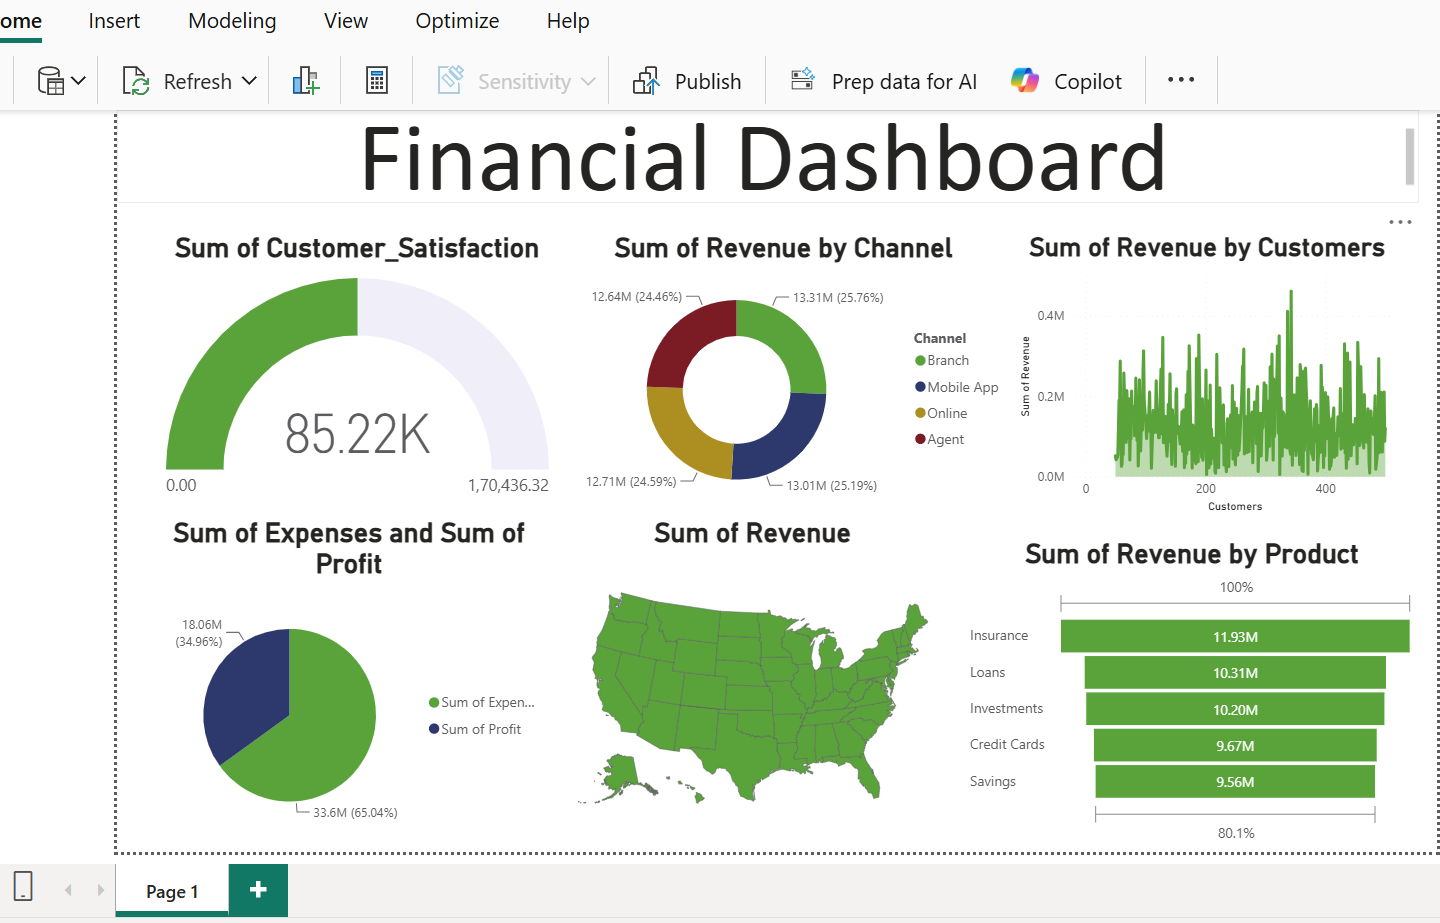

This screenshot's page, from the dashboard's own definition file:
{"tool":"powerbi","page":{"name":"Page 1","canvas":[1280,720],"ordinal":0},"visuals":[{"type":"gauge","fields":{"Y":["Sum(0_financial_dashboard_dataset.Customer_Satisfaction)"]},"box":[41.7,118.3,381.7,276.7],"z":0},{"type":"pieChart","fields":{"Y":["Sum(0_financial_dashboard_dataset.Expenses)","Sum(0_financial_dashboard_dataset.Profit)"]},"box":[28.3,395,395,325],"z":1000},{"type":"donutChart","fields":{"Category":["0_financial_dashboard_dataset.Channel"],"Y":["Sum(0_financial_dashboard_dataset.Revenue)"]},"box":[423.3,118.3,446.7,276.7],"z":2000},{"type":"shapeMap","fields":{"Value":["Sum(0_financial_dashboard_dataset.Revenue)"]},"box":[423.3,395,386.7,321.7],"z":3000},{"type":"stackedAreaChart","fields":{"Category":["0_financial_dashboard_dataset.Customers"],"Y":["Sum(0_financial_dashboard_dataset.Revenue)"]},"box":[870,118.3,375,276.7],"z":3001},{"type":"funnel","fields":{"Category":["0_financial_dashboard_dataset.Product"],"Y":["Sum(0_financial_dashboard_dataset.Revenue)"]},"box":[821.7,415,441.7,301.7],"z":3002},{"type":"textbox","box":[0,0,1263.3,90],"z":3003}]}

Visuals, with their boxes on the page's 1280x720 design canvas (x1, y1, x2, y2). These are canvas units, not pixel positions in the 1440x923 screenshot, which may show the page scaled, cropped or inside an application window:
gauge - Sum(0_financial_dashboard_dataset.Customer_Satisfaction): x1=42 y1=118 x2=423 y2=395
pieChart - Sum(0_financial_dashboard_dataset.Expenses) x Sum(0_financial_dashboard_dataset.Profit): x1=28 y1=395 x2=423 y2=720
donutChart - 0_financial_dashboard_dataset.Channel x Sum(0_financial_dashboard_dataset.Revenue): x1=423 y1=118 x2=870 y2=395
shapeMap - Sum(0_financial_dashboard_dataset.Revenue): x1=423 y1=395 x2=810 y2=717
stackedAreaChart - 0_financial_dashboard_dataset.Customers x Sum(0_financial_dashboard_dataset.Revenue): x1=870 y1=118 x2=1245 y2=395
funnel - 0_financial_dashboard_dataset.Product x Sum(0_financial_dashboard_dataset.Revenue): x1=822 y1=415 x2=1263 y2=717
textbox: x1=0 y1=0 x2=1263 y2=90
